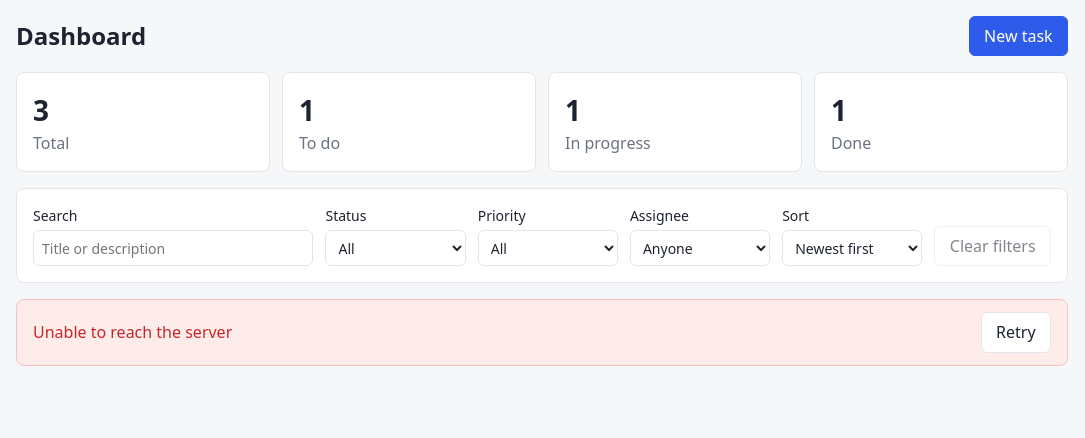
Test: DashboardPage › shows an error with retry when tasks fail to load
The width and height of the screenshot is (1085, 438).
Expected: the text "Unable to reach the server" is shown, [33,320,232,344]
Click the button "Retry" at (1016, 332), box [981,312,1051,353]
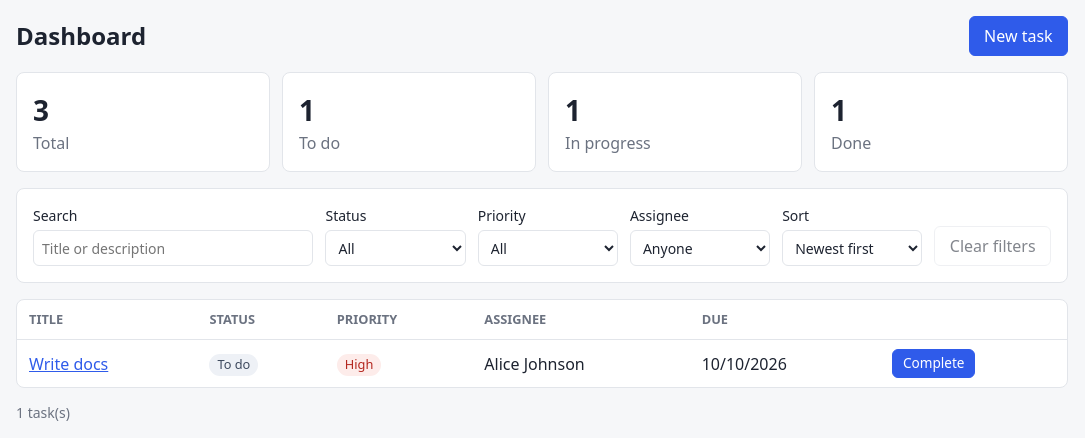
Result: the link "Write docs" is shown at [29,352,108,374]
